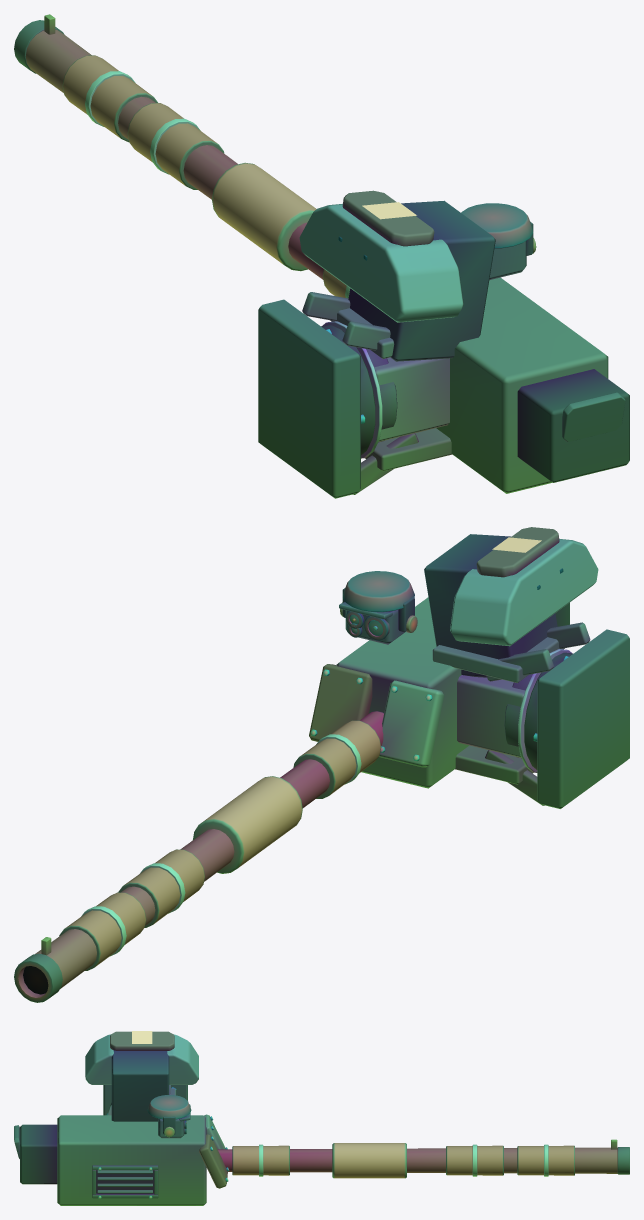
The model's file is arm_2a46.glb.
The picture shows the model from 3 angles, top to bottom: view 1: azimuth 30°, elevation 25°; view 2: azimuth 150°, elevation 25°; view 3: azimuth 270°, elevation 25°; orthographic projection. The views are drawn at different scales.
Visible parts, largest first — view 1: Body__armor_sub, Body__gunmetal, Body__armor, Body__dark, Body__armor_oxide, Body__chrome, Body__armor_dark; view 2: Body__gunmetal, Body__armor_sub, Body__armor, Body__dark, Body__armor_oxide, Body__chrome; view 3: Body__armor_sub, Body__gunmetal, Body__dark, Body__armor, Body__armor_oxide, Body__chrome, Body__armor_dark, Body__decal.
Boxes of the visible parts, <box> form: Body__armor_sub: <box>62,55,608,494</box>; Body__gunmetal: <box>14,20,625,498</box>; Body__armor: <box>212,162,463,441</box>; Body__dark: <box>321,200,629,482</box>; Body__armor_oxide: <box>342,190,434,246</box>; Body__chrome: <box>85,71,382,458</box>; Body__armor_dark: <box>489,240,526,279</box>; Body__gunmetal: <box>14,571,629,1002</box>; Body__armor_sub: <box>59,597,590,970</box>; Body__armor: <box>193,539,598,873</box>; Body__dark: <box>342,534,572,769</box>; Body__armor_oxide: <box>309,527,559,741</box>; Body__chrome: <box>81,649,571,956</box>; Body__armor_sub: <box>57,1085,574,1205</box>; Body__gunmetal: <box>14,1085,629,1198</box>; Body__dark: <box>20,1050,175,1193</box>; Body__armor: <box>85,1034,406,1178</box>; Body__armor_oxide: <box>110,1031,227,1188</box>; Body__chrome: <box>98,1087,548,1198</box>; Body__armor_dark: <box>158,1118,184,1138</box>; Body__decal: <box>132,1031,152,1043</box>.
Bounding box in the file's own units: 0.964 × 0.9269 × 3.63.
